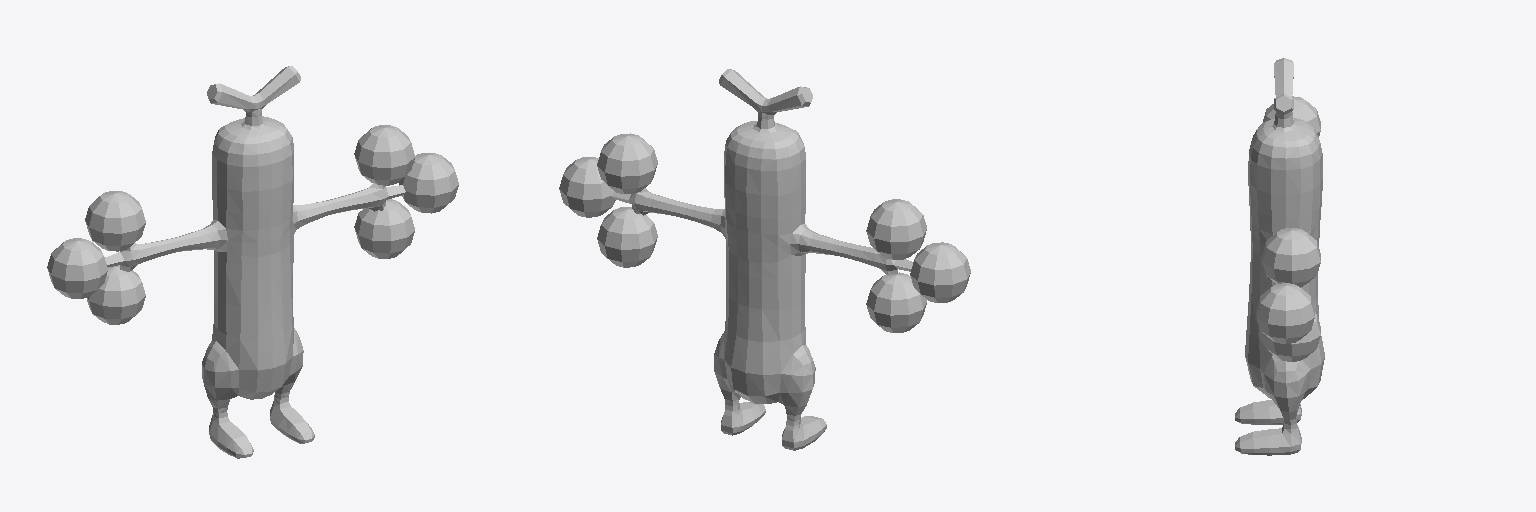
The model's file is Bateo_Bate.obj.
3 views of the same model, side by side, from view 1: azimuth 30°, elevation 25°; view 2: azimuth 150°, elevation 25°; view 3: azimuth 270°, elevation 25° (orthographic).
Visible parts, largest first — view 1: mesh0, mesh1; view 2: mesh0; view 3: mesh0.
Boxes of the visible parts, box(x1,y1,x2,y2) form: mesh0: box(47, 66, 458, 458); mesh1: box(242, 156, 292, 214); mesh0: box(559, 69, 970, 450); mesh0: box(1235, 58, 1324, 455).
Bounding box in the file's own units: 7.99 × 6.78 × 1.55.